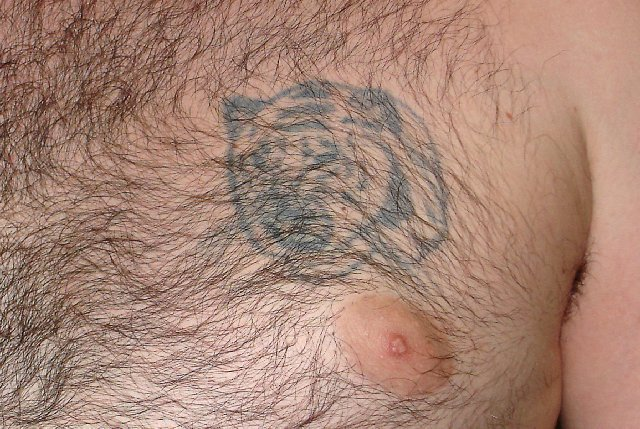tatu5_tigr: (221, 80, 450, 283)
